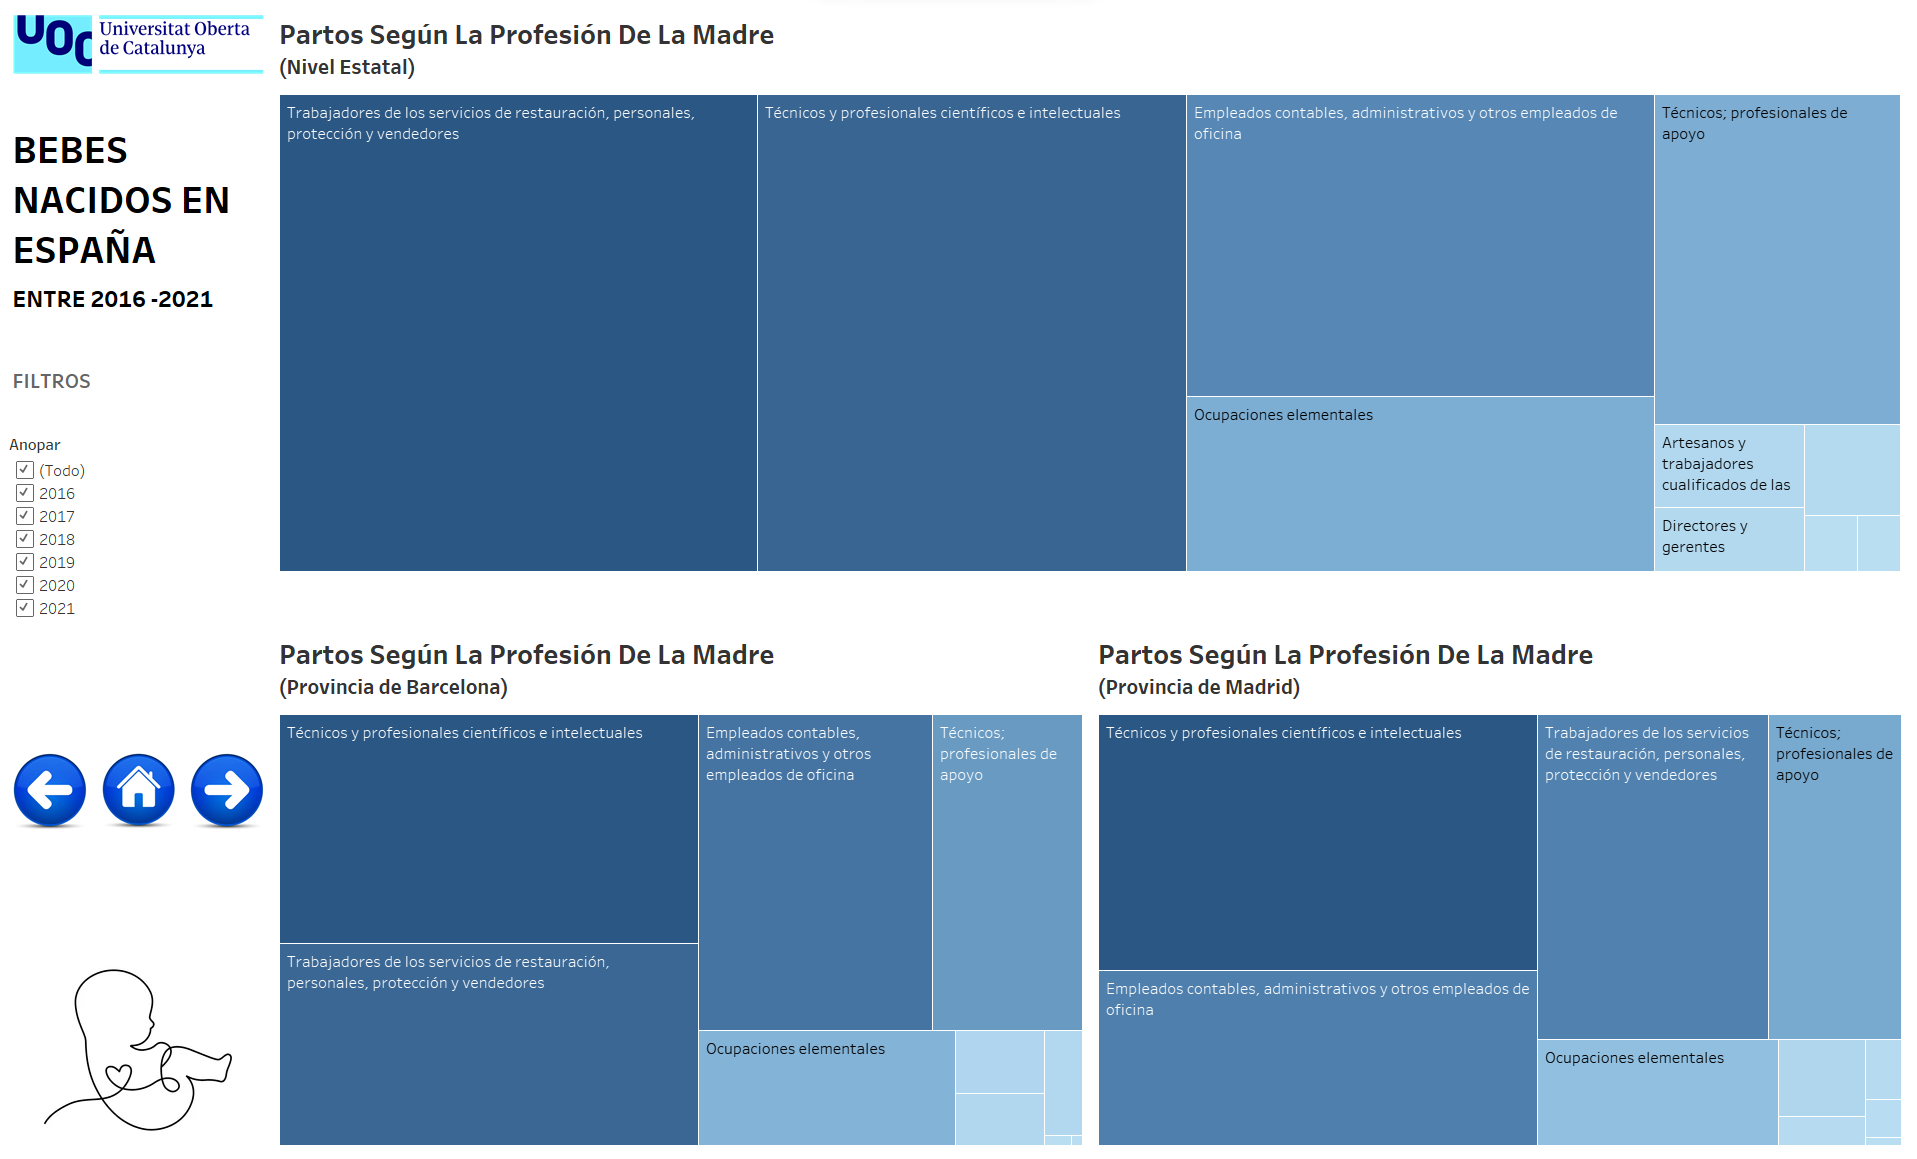

Layout of this report page (visuals, bound fields, positions):
{"tool":"tableau","page":{"name":"HOJA 4","canvas":[1000,1000],"units":"permille","ordinal":3},"visuals":[{"type":"image","param":"C:/Users/miguel.agua/Documents/Personal/Semestre3/Visualizacion/PRA2/Imagenes/uo","box":[5.2,8.2,146,95.6]},{"type":"worksheet","title":"Trabajo Global","mark":"Automatic","box":[151.2,8.2,843.6,491.7]},{"type":"text","box":[5.2,103.9,146,162.7]},{"type":"text","box":[5.2,266.6,146,42.2]},{"type":"blank","box":[5.2,308.8,146,45.3]},{"type":"text","box":[5.2,354.2,146,37.1]},{"type":"blank","box":[5.2,391.2,146,33]},{"type":"filter","title":"Trabajo Barcelona","param":"[federated.0aty76y0109al219r4ch6103iras].[none:ANOPAR:nk]","box":[5.2,424.2,146,242]},{"type":"blank","box":[151.2,499.9,843.6,40.3]},{"type":"worksheet","title":"Trabajo Barcelona","mark":"Automatic","box":[151.2,540.2,417.9,451.5]},{"type":"worksheet","title":"Trabajo Madrid","mark":"Automatic","box":[569.1,540.2,425.6,451.5]},{"type":"dashboard-object","box":[5.2,666.3,48.9,77.2]},{"type":"dashboard-object","box":[54.1,666.3,48.9,77.2]},{"type":"blank","box":[103,666.3,48.2,77.2]},{"type":"image","param":"C:/Users/miguel.agua/Documents/Personal/Semestre3/Visualizacion/PRA2/Imagenes/ww","box":[5.2,743.5,146,206]}]}

Visuals, with their boxes on the dashboard's canvas, which has no fixed pixel size, in thousandths of its width and height (x1, y1, x2, y2). These are canvas units, not pixel positions in the 1917x1159 screenshot, which may show the page scaled, cropped or inside an application window:
image: [5,8,151,104]
"Trabajo Global" worksheet: [151,8,995,500]
text: [5,104,151,267]
text: [5,267,151,309]
blank: [5,309,151,354]
text: [5,354,151,391]
blank: [5,391,151,424]
"Trabajo Barcelona" filter: [5,424,151,666]
blank: [151,500,995,540]
"Trabajo Barcelona" worksheet: [151,540,569,992]
"Trabajo Madrid" worksheet: [569,540,995,992]
dashboard-object: [5,666,54,744]
dashboard-object: [54,666,103,744]
blank: [103,666,151,744]
image: [5,744,151,950]
